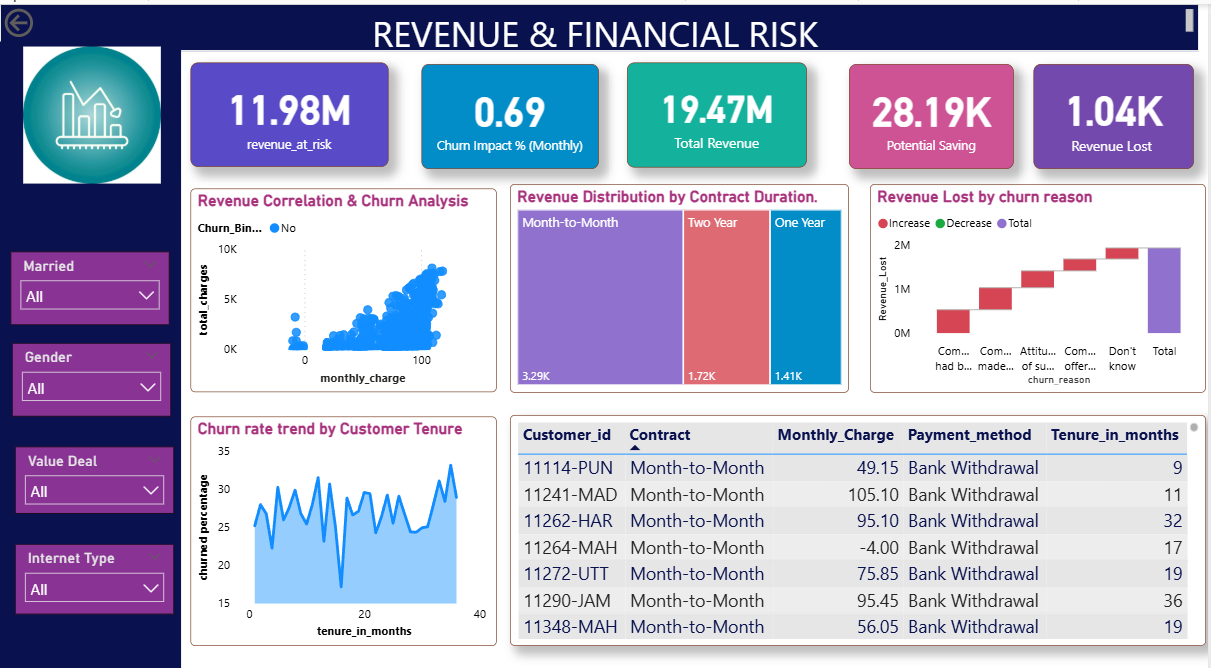

The dashboard page shown, as its layout file describes it:
{"tool":"powerbi","page":{"name":"Financial Risk","canvas":[1280,720],"ordinal":2},"visuals":[{"type":"textbox","box":[0,0,1270.4,50],"z":0},{"type":"card","fields":{"Values":["churn prod_churn.revenue_at_risk"]},"box":[201.5,62.7,209.9,111],"z":1000},{"type":"card","fields":{"Values":["Sum(churn prod_churn.total_revenue)"]},"box":[664.9,62,190.9,111.3],"z":3000},{"type":"card","fields":{"Values":["churn prod_churn.Potential Saving"]},"box":[900.3,63.6,175,111.3],"z":4000},{"type":"card","fields":{"Values":["churn prod_churn.Churn Impact % (Monthly)"]},"box":[447,63.6,187.7,111.3],"z":5000},{"type":"card","fields":{"Values":["churn prod_churn.LOST CLV"]},"box":[1095.9,63.6,170.2,111.3],"z":6000},{"type":"tableEx","title":"Regional Revenue Performance","fields":{"Values":["churn prod_churn.customer_id","churn prod_churn.contract","churn prod_churn.monthly_charge","churn prod_churn.payment_method","churn prod_churn.tenure_in_months"]},"box":[540.8,435.8,738,245],"z":7000},{"type":"actionButton","box":[0,0,100,40],"z":10000},{"type":"areaChart","title":"Churn rate trend by Customer Tenure ","fields":{"Category":["churn prod_churn.tenure_in_months"],"Y":["churn prod_churn.churned percentage"]},"box":[202,437.4,324.5,243.4],"z":11000},{"type":"shape","box":[0,39.8,192,680.4],"z":12000},{"type":"slicer","fields":{"Values":["churn prod_churn.married"]},"box":[11.1,262.5,168.6,77.9],"z":13000},{"type":"slicer","fields":{"Values":["churn prod_churn.gender"]},"box":[12.7,359.5,168.6,77.9],"z":14000},{"type":"slicer","fields":{"Values":["churn prod_churn.value_deal"]},"box":[15.9,469.2,168.6,71.6],"z":15000},{"type":"slicer","fields":{"Values":["churn prod_churn.internet_type"]},"box":[15.9,572.6,168.6,74.8],"z":16000},{"type":"image","box":[15.9,39.8,163.8,155.9],"z":17000},{"type":"waterfallChart","title":"Revenue Lost by churn reason","fields":{"Category":["churn prod_churn.churn_reason"],"Y":["churn prod_churn.Revenue_Lost"]},"box":[922.6,190.9,356.3,221.1],"z":18000},{"type":"scatterChart","title":"Revenue Correlation & Churn Analysis","fields":{"X":["churn prod_churn.monthly_charge"],"Y":["churn prod_churn.total_charges"],"Series":["churn prod_churn.Churn_Binary"]},"box":[202,195.6,324.5,216.3],"z":19000},{"type":"treemap","title":"Revenue Distribution by Contract Duration.","fields":{"Group":["churn prod_churn.contract"],"Values":["CountNonNull(churn prod_churn.total_revenue)"]},"box":[540.8,190.9,359.5,221.1],"z":20000}]}

Visuals, with their boxes in screenshot pixels (x1, y1, x2, y2), scaled from the page's 1280x720 canvas onto the 1211x668 screenshot:
textbox: Rect(0, 0, 1202, 46)
card - churn prod_churn.revenue_at_risk: Rect(191, 58, 389, 161)
card - Sum(churn prod_churn.total_revenue): Rect(629, 58, 810, 161)
card - churn prod_churn.Potential Saving: Rect(852, 59, 1017, 162)
card - churn prod_churn.Churn Impact % (Monthly): Rect(423, 59, 600, 162)
card - churn prod_churn.LOST CLV: Rect(1037, 59, 1198, 162)
"Regional Revenue Performance" tableEx: Rect(512, 404, 1210, 632)
actionButton: Rect(0, 0, 95, 37)
"Churn rate trend by Customer Tenure " areaChart: Rect(191, 406, 498, 632)
shape: Rect(0, 37, 182, 667)
slicer - churn prod_churn.married: Rect(11, 244, 170, 316)
slicer - churn prod_churn.gender: Rect(12, 334, 172, 406)
slicer - churn prod_churn.value_deal: Rect(15, 435, 175, 502)
slicer - churn prod_churn.internet_type: Rect(15, 531, 175, 601)
image: Rect(15, 37, 170, 182)
"Revenue Lost by churn reason" waterfallChart: Rect(873, 177, 1210, 382)
"Revenue Correlation & Churn Analysis" scatterChart: Rect(191, 181, 498, 382)
"Revenue Distribution by Contract Duration." treemap: Rect(512, 177, 852, 382)
